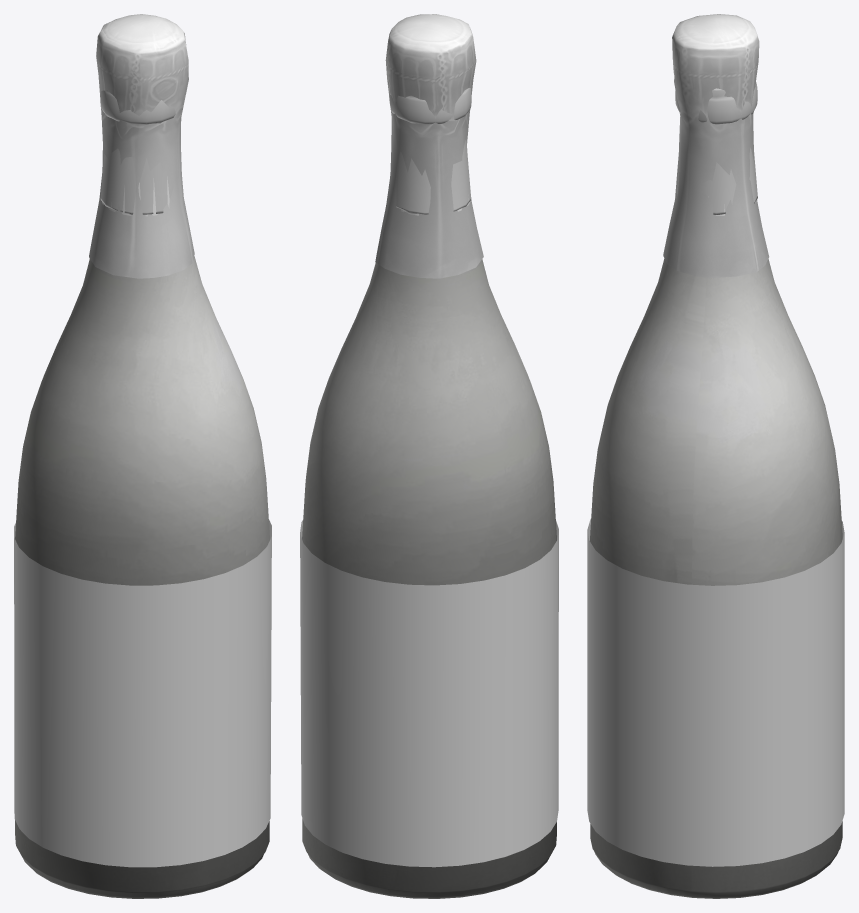
File: Jeroboam_300cl_Teinte_CHR.glb
The picture shows the model from 3 angles, left to right: view 1: azimuth 30°, elevation 25°; view 2: azimuth 150°, elevation 25°; view 3: azimuth 270°, elevation 25°; orthographic projection.
Parts seen in each view (by area): view 1: label, bottiglia, champagneAluminium, longWax; view 2: label, bottiglia, champagneAluminium, longWax; view 3: label, bottiglia, champagneAluminium, longWax.
Part boxes in pixels (x1,y1,x2,y2): label: [14, 520, 271, 867]; bottiglia: [15, 256, 269, 898]; champagneAluminium: [89, 14, 194, 278]; longWax: [100, 90, 175, 214]; label: [300, 519, 558, 867]; bottiglia: [302, 259, 556, 898]; champagneAluminium: [375, 14, 483, 278]; longWax: [389, 88, 471, 214]; label: [587, 518, 844, 866]; bottiglia: [590, 258, 842, 898]; champagneAluminium: [663, 14, 769, 277]; longWax: [675, 82, 757, 214].
Size of the model in its own units: 0.1413 by 0.4966 by 0.14.
8 materials, 7 textured.
